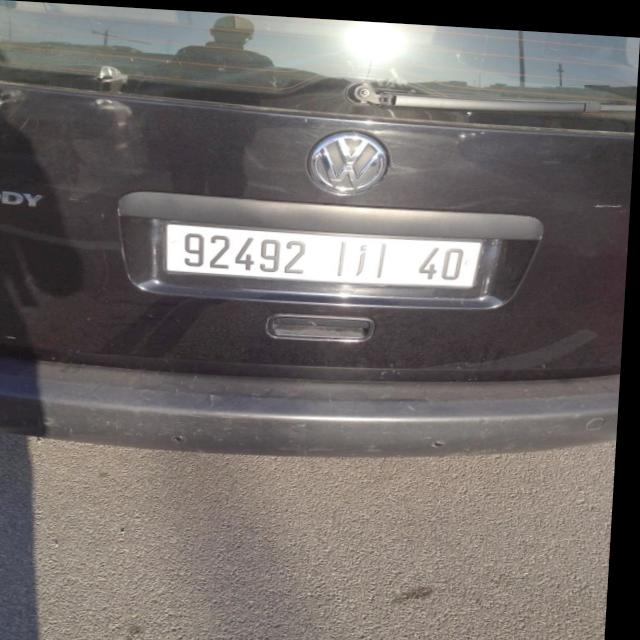License-Plate: (171, 222, 484, 281)
